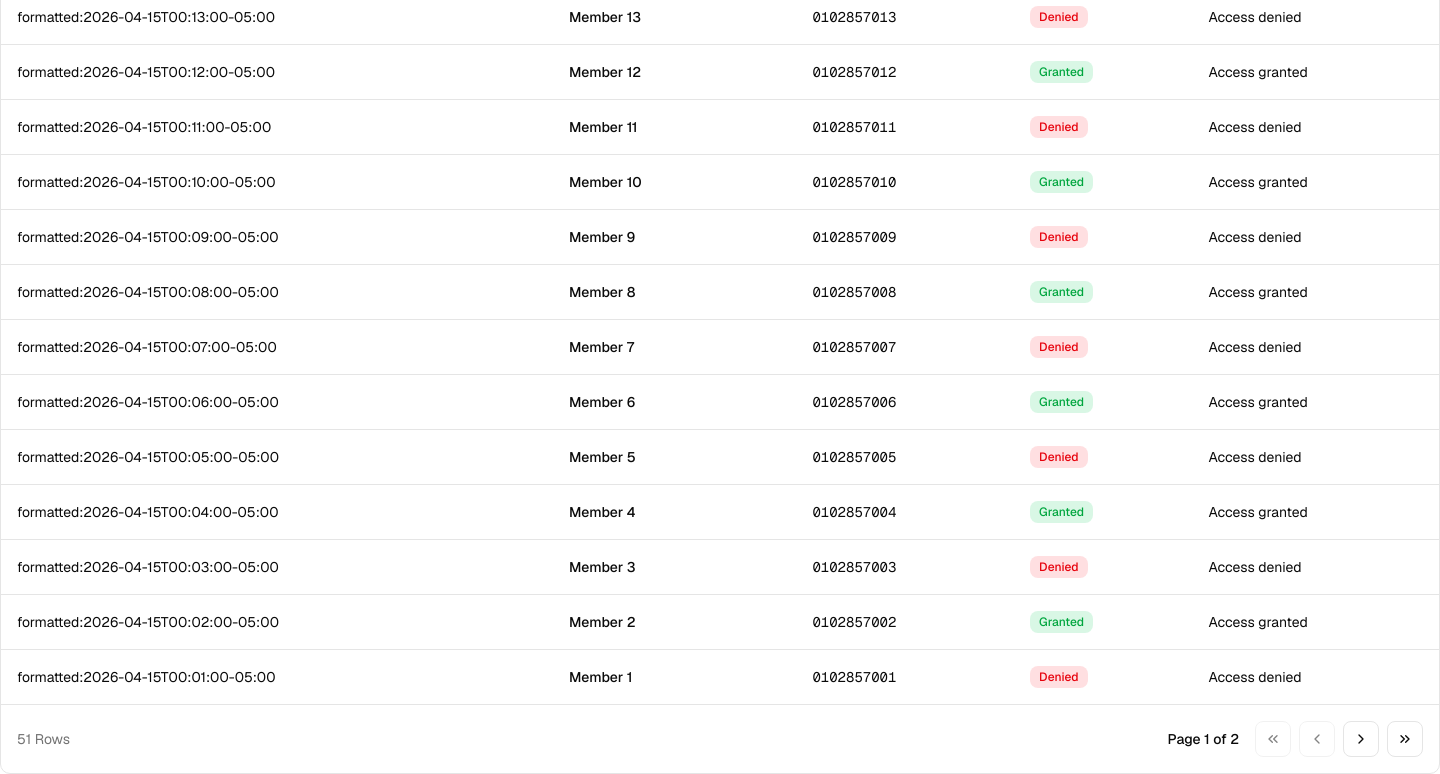
Test: DoorHistoryPage › sorts newest-first before paginating and shows footer counts from the full dataset
(page scrolled)
Click the button named "Go to next page".
click(1361, 738)  # box [1343,720,1379,756]
(page scrolled)
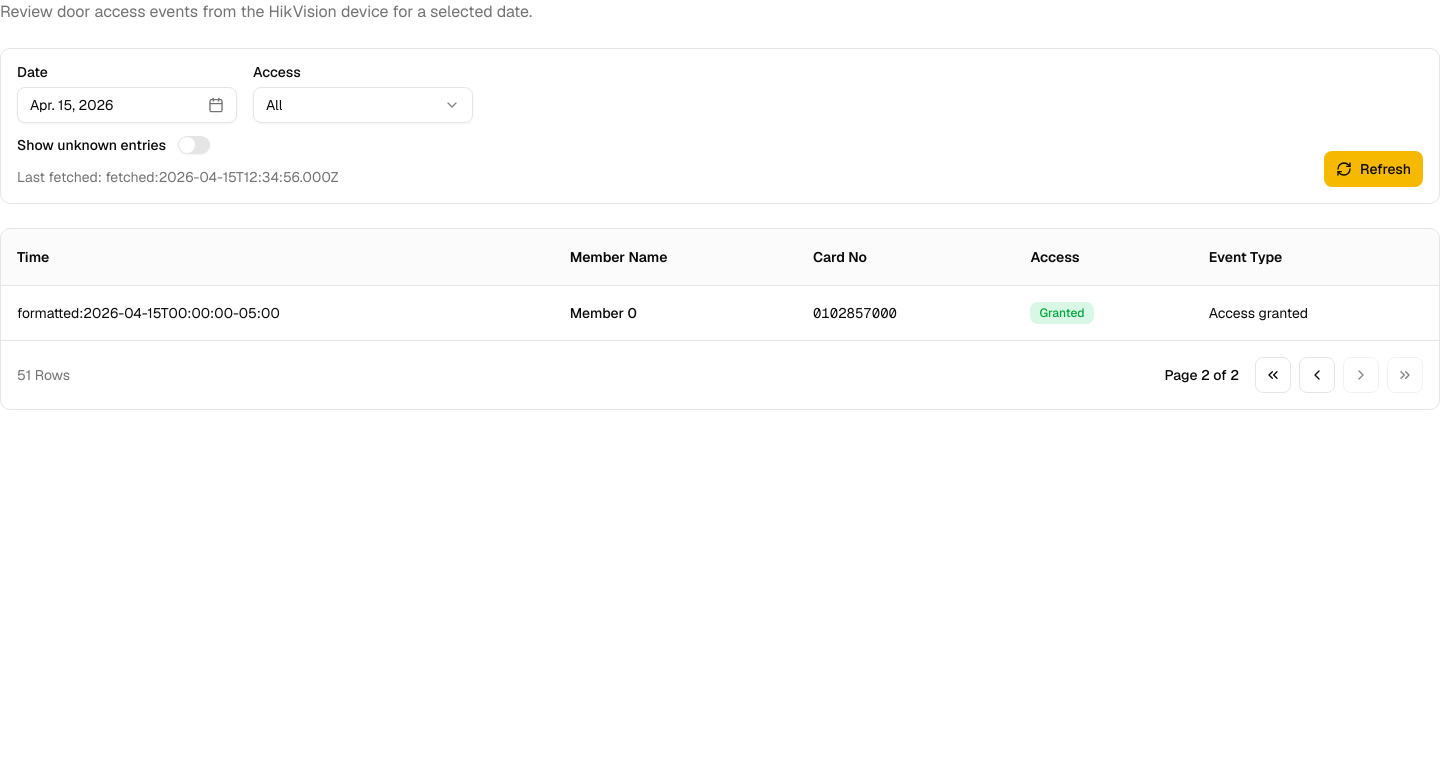
Expected: the text "51 Rows" is shown, [17,364,70,384]
Now the text "Page 2 of 2" is shown, box [1164,364,1239,384]
Now the row that starts with "formatted:2026-04-15T00:00:00-05:00" is shown, box [17,304,280,322]
